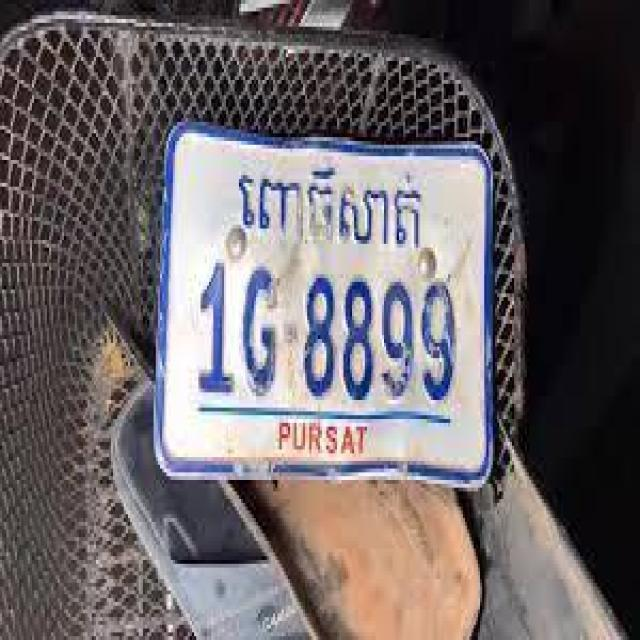Pursat: (235, 160, 430, 256)
